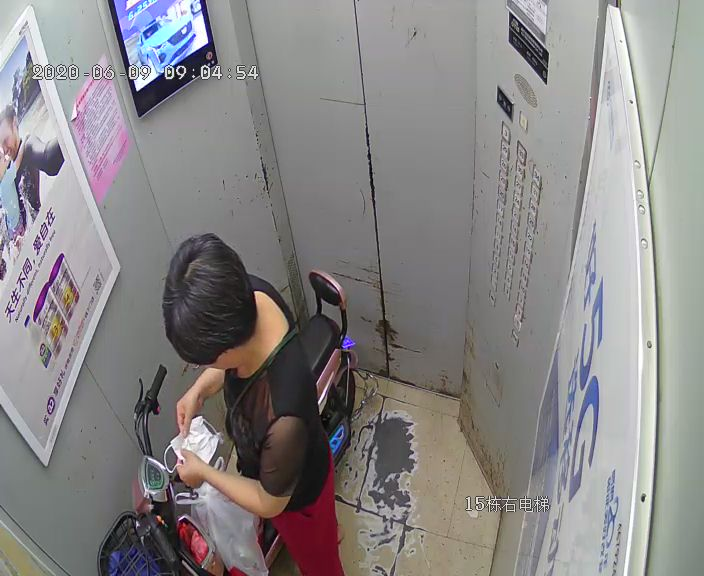Electric-bicycle: (96, 266, 368, 576)
